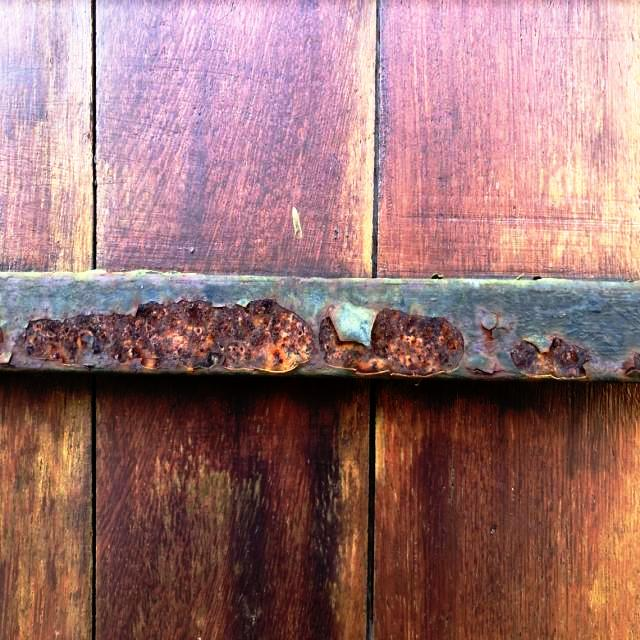Corrosion: (0, 290, 472, 380), (510, 331, 594, 381), (470, 297, 519, 380), (617, 346, 640, 386)
